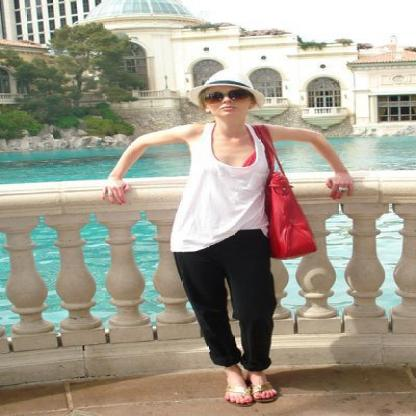bag: (244, 125, 316, 257)
hat: (177, 64, 253, 104)
pants: (173, 224, 276, 366)
shirt: (170, 133, 268, 251)
shoe: (225, 381, 269, 402)
sunglass: (212, 81, 255, 103)
